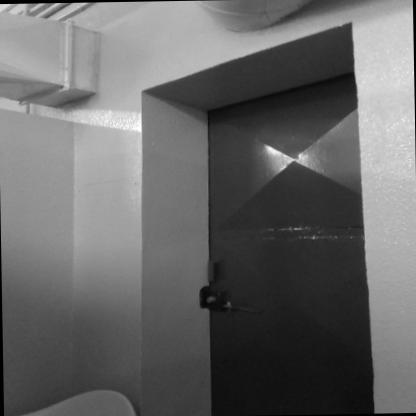closed: (172, 62, 388, 408)
